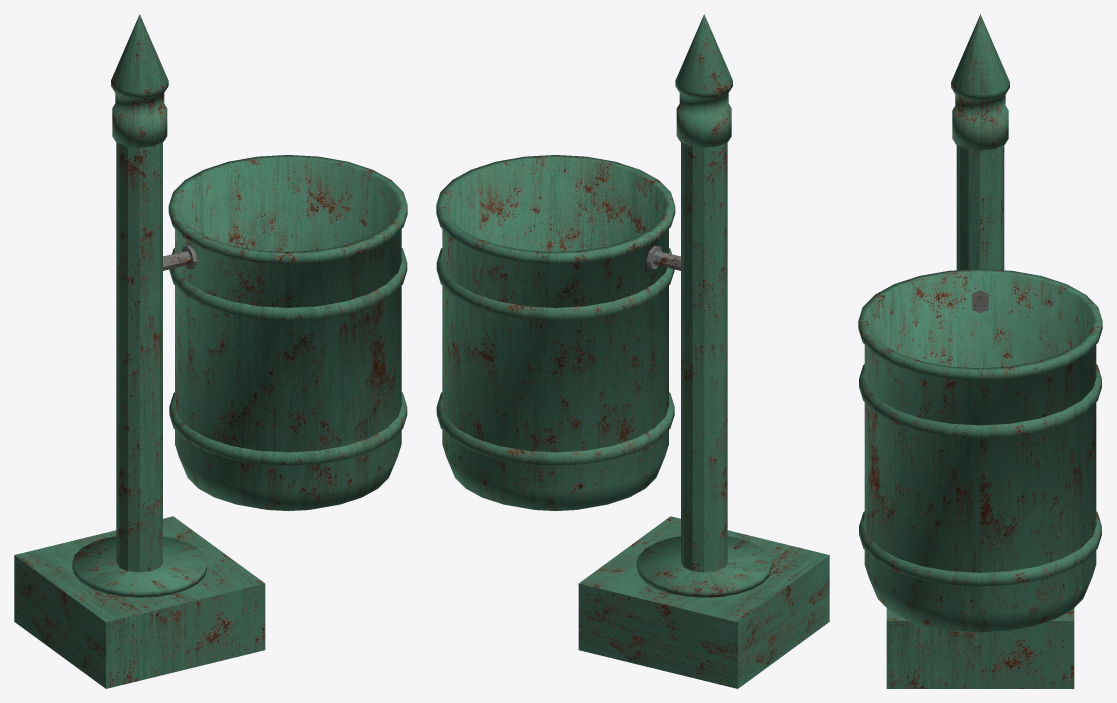
The model's file is urn_post_green_web.glb.
3 renders of one model, left to right at view 1: azimuth 30°, elevation 25°; view 2: azimuth 150°, elevation 25°; view 3: azimuth 270°, elevation 25°, orthographic. The views are drawn at different scales.
Parts seen in each view (by area): view 1: Urn_BinMesh.001, UrnPost_green_Mesh; view 2: Urn_BinMesh.001, UrnPost_green_Mesh; view 3: Urn_BinMesh.001, UrnPost_green_Mesh.
Part boxes in pixels (x1,y1,x2,y2): Urn_BinMesh.001: (168, 155, 407, 511); UrnPost_green_Mesh: (14, 14, 265, 688); Urn_BinMesh.001: (436, 155, 675, 511); UrnPost_green_Mesh: (578, 14, 829, 688); Urn_BinMesh.001: (858, 269, 1102, 632); UrnPost_green_Mesh: (886, 14, 1074, 688).
Size of the model in its own units: 0.625 by 1.12 by 0.39.
Materials: 2 (2 with a texture image).
